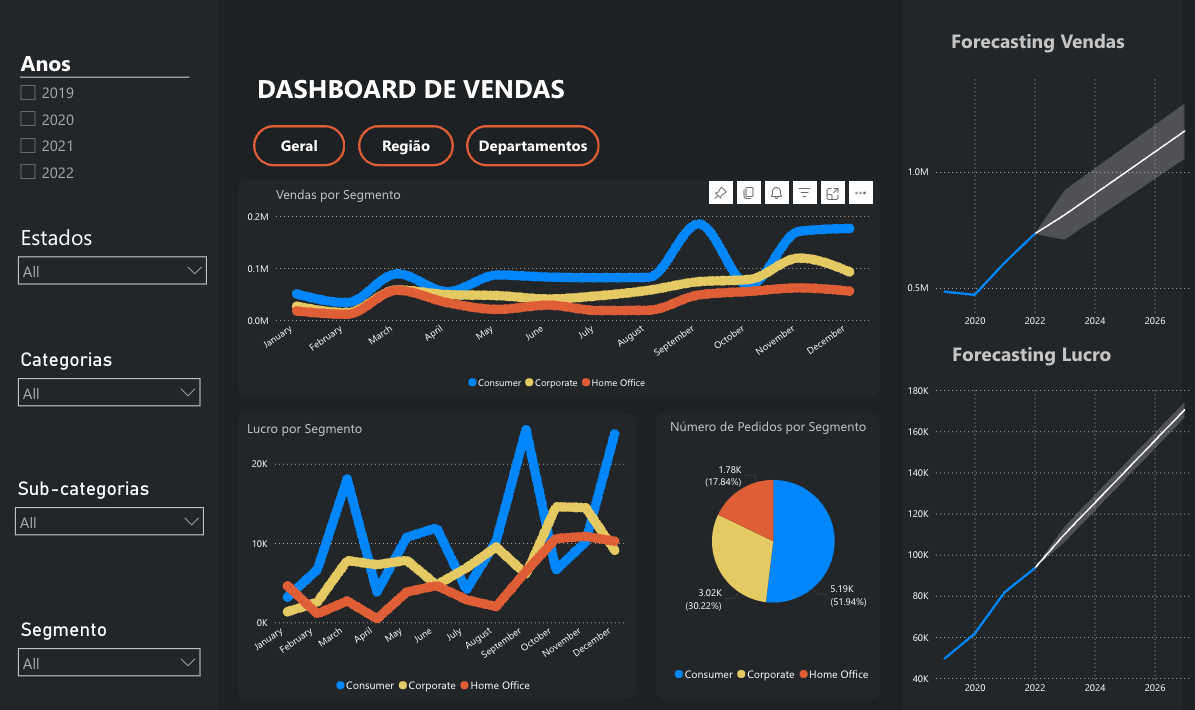

The dashboard page shown, as its layout file describes it:
{"tool":"powerbi","page":{"name":"Departamentos","canvas":[1500,900],"ordinal":2},"visuals":[{"type":"shape","box":[0,0,273.8,900],"z":0},{"type":"shape","box":[1130,0,350,900],"z":1000},{"type":"shape","box":[298.5,228.1,802.8,270.7],"z":2000},{"type":"shape","box":[298.8,518.8,497.5,357.5],"z":3000},{"type":"shape","box":[821.4,519.2,280,357.8],"z":4000},{"type":"actionButton","title":"Geral","box":[316.9,158.4,115.5,51.8],"z":5000},{"type":"actionButton","box":[448.7,158.4,119.9,51.8],"z":6000},{"type":"actionButton","box":[583.4,158.4,167.3,51.8],"z":7000},{"type":"textbox","box":[317.1,85.3,433.9,61.2],"z":8000},{"type":"slicer","fields":{"Values":["superstore_dataset.order_date.Variation.Jerarquía de fechas.Año"]},"box":[13.7,58.1,237.5,199.9],"z":9000},{"type":"slicer","fields":{"Values":["superstore_dataset.state"]},"box":[13.7,275.1,256.3,107.6],"z":10000},{"type":"slicer","fields":{"Values":["superstore_dataset.category"]},"box":[13.7,435.6,247.7,150.3],"z":11000},{"type":"slicer","fields":{"Values":["superstore_dataset.subcategory"]},"box":[10.3,597.9,256.3,138.4],"z":12000},{"type":"slicer","fields":{"Values":["superstore_dataset.segment"]},"box":[13.7,773.9,247.7,104.2],"z":13000},{"type":"lineChart","fields":{"Y":["Sum(superstore_dataset.sales)"],"Category":["superstore_dataset.order_date.Variation.Jerarquía de fechas.Mes"],"Series":["superstore_dataset.segment"]},"box":[305,258.3,788.3,240],"z":14000},{"type":"textbox","box":[341.7,228.3,383.3,36.7],"z":15000},{"type":"pieChart","fields":{"Y":["CountNonNull(superstore_dataset.order_id)"],"Category":["superstore_dataset.segment"]},"box":[833.3,523.3,268.3,340],"z":16000},{"type":"textbox","box":[833.3,518.3,295,36.7],"z":17000},{"type":"lineChart","fields":{"Y":["Sum(superstore_dataset.profit)"],"Category":["superstore_dataset.order_date.Variation.Jerarquía de fechas.Mes"],"Series":["superstore_dataset.segment"]},"box":[298.2,519.1,491.8,359.1],"z":18000},{"type":"textbox","box":[305.5,520.9,381.8,34.5],"z":19000},{"type":"lineChart","fields":{"Y":["Sum(superstore_dataset.sales)"],"Category":["superstore_dataset.order_date.Variation.Jerarquía de fechas.Año"]},"box":[1130,88,370,334],"z":20000},{"type":"textbox","box":[1185,31.2,280,52.5],"z":21000},{"type":"textbox","box":[1186,422,250,54],"z":22000},{"type":"lineChart","fields":{"Y":["Sum(superstore_dataset.profit)"],"Category":["superstore_dataset.order_date.Variation.Jerarquía de fechas.Año"]},"box":[1130,476,370,404],"z":23000}]}

Visuals, with their boxes in screenshot pixels (x1, y1, x2, y2), scaled from the page's 1500x900 canvas onto the 1195x710 screenshot:
shape: [0,0,218,709]
shape: [900,0,1179,709]
shape: [238,180,877,393]
shape: [238,409,634,691]
shape: [654,410,877,692]
"Geral" actionButton: [252,125,344,166]
actionButton: [357,125,453,166]
actionButton: [465,125,598,166]
textbox: [253,67,598,116]
slicer - superstore_dataset.order_date.Variation.Jerarquía de fechas.Año: [11,46,200,204]
slicer - superstore_dataset.state: [11,217,215,302]
slicer - superstore_dataset.category: [11,344,208,462]
slicer - superstore_dataset.subcategory: [8,472,212,581]
slicer - superstore_dataset.segment: [11,611,208,693]
lineChart - Sum(superstore_dataset.sales) x superstore_dataset.order_date.Variation.Jerarquía de fechas.Mes: [243,204,871,393]
textbox: [272,180,578,209]
pieChart - CountNonNull(superstore_dataset.order_id) x superstore_dataset.segment: [664,413,878,681]
textbox: [664,409,899,438]
lineChart - Sum(superstore_dataset.profit) x superstore_dataset.order_date.Variation.Jerarquía de fechas.Mes: [238,410,629,693]
textbox: [243,411,548,438]
lineChart - Sum(superstore_dataset.sales) x superstore_dataset.order_date.Variation.Jerarquía de fechas.Año: [900,69,1194,333]
textbox: [944,25,1167,66]
textbox: [945,333,1144,376]
lineChart - Sum(superstore_dataset.profit) x superstore_dataset.order_date.Variation.Jerarquía de fechas.Año: [900,376,1194,694]
